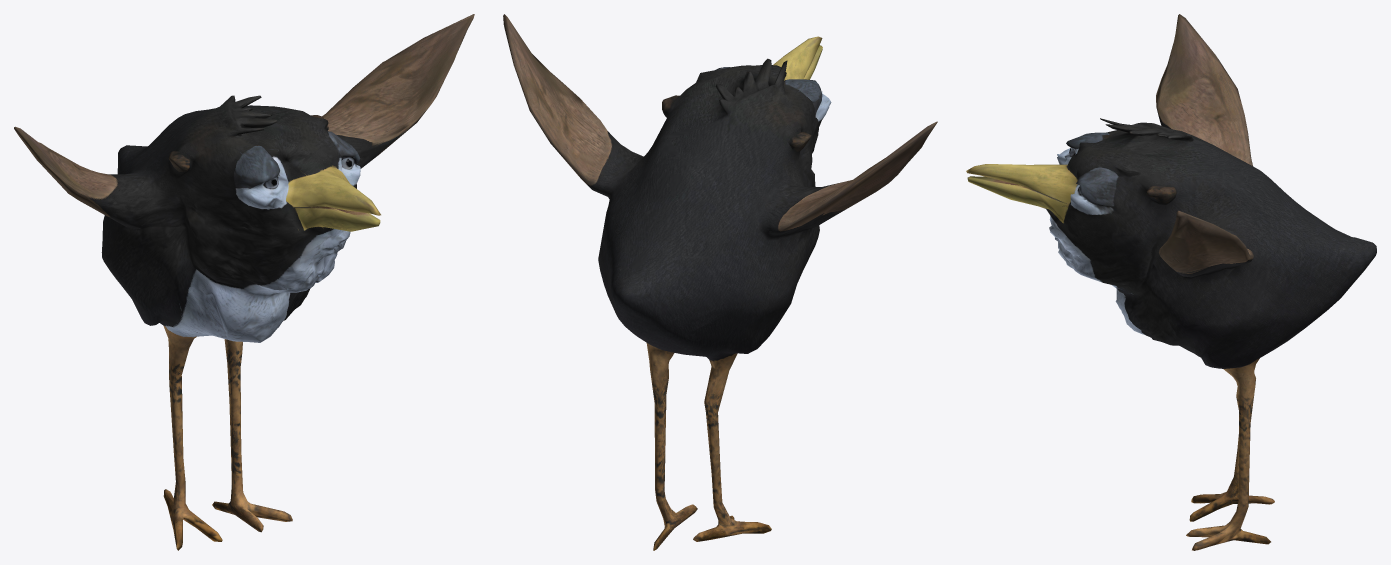
The picture shows the model from 3 angles, left to right: view 1: azimuth 30°, elevation 25°; view 2: azimuth 150°, elevation 25°; view 3: azimuth 270°, elevation 25°; orthographic projection. The views are drawn at different scales.
Parts seen in each view (by area): view 1: tripo_node_3e7d62c7; view 2: tripo_node_3e7d62c7; view 3: tripo_node_3e7d62c7.
Boxes of the visible parts, x1,y1,x2,y2 form: tripo_node_3e7d62c7: (14, 14, 474, 550); tripo_node_3e7d62c7: (503, 14, 937, 550); tripo_node_3e7d62c7: (966, 14, 1376, 550).
Bounding box in the file's own units: 0.9998 × 0.9999 × 0.8784.
Materials: 1 (1 with a texture image).
